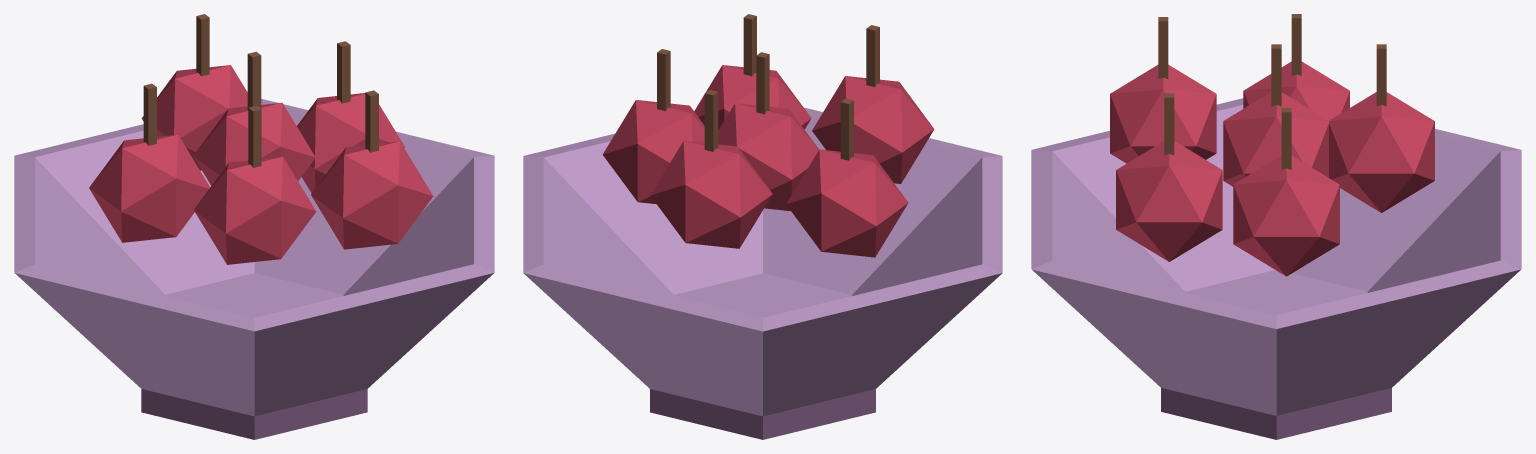
The model's file is 07_BowlCerezas.obj.
3 views of the same model, side by side, from view 1: azimuth 30°, elevation 25°; view 2: azimuth 150°, elevation 25°; view 3: azimuth 270°, elevation 25° (orthographic). The views are drawn at different scales.
Visible parts, largest first — view 1: Bowl, cereza_4, cereza_5, cereza_1, base, cereza_2, cereza_6, cereza_3, tallo_5, tallo_1, tallo_2, tallo_3 (+2 smaller); view 2: Bowl, cereza_1, cereza_2, cereza_4, cereza_6, cereza_3, base, cereza_5, tallo_2, tallo_1, tallo_4, tallo_3 (+2 smaller); view 3: Bowl, cereza_3, cereza_5, cereza_2, cereza_4, cereza_6, base, cereza_1, tallo_2, tallo_6, tallo_5, tallo_4 (+2 smaller).
Part boxes in pixels (x1,y1,x2,y2): Bowl: (14, 99, 494, 416); cereza_4: (194, 156, 316, 264); cereza_5: (311, 141, 433, 249); cereza_1: (89, 134, 210, 242); base: (141, 389, 367, 439); cereza_2: (141, 65, 247, 170); cereza_6: (193, 102, 315, 185); cereza_3: (297, 93, 404, 193); tallo_5: (365, 90, 378, 152); tallo_1: (143, 83, 156, 145); tallo_2: (196, 14, 209, 76); tallo_3: (337, 41, 350, 103); Bowl: (523, 107, 1002, 416); cereza_1: (786, 149, 908, 257); cereza_2: (650, 140, 772, 248); cereza_4: (812, 76, 934, 183); cereza_6: (718, 103, 818, 211); cereza_3: (602, 100, 704, 204); base: (650, 389, 875, 439); cereza_5: (694, 65, 811, 129); tallo_2: (704, 90, 718, 151); tallo_1: (840, 98, 853, 160); tallo_4: (866, 25, 879, 86); tallo_3: (657, 49, 670, 110); Bowl: (1031, 98, 1521, 415); cereza_3: (1233, 155, 1339, 276); cereza_5: (1116, 141, 1222, 261); cereza_2: (1329, 92, 1434, 212); cereza_4: (1110, 64, 1216, 163); cereza_6: (1223, 92, 1328, 186); base: (1161, 388, 1391, 439); cereza_1: (1243, 61, 1349, 120); tallo_2: (1376, 44, 1386, 106); tallo_6: (1271, 44, 1281, 106); tallo_5: (1164, 93, 1174, 155); tallo_4: (1158, 17, 1168, 78).
Bounding box in the file's own units: 0.28 × 0.184 × 0.2425.
